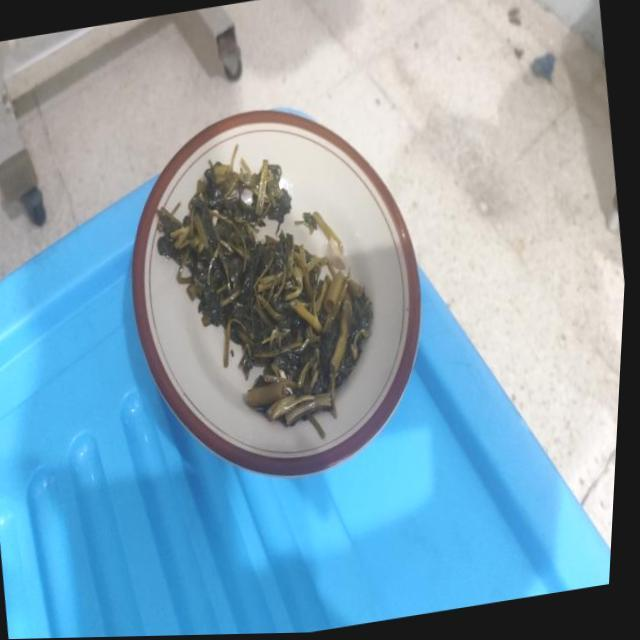tumis_kangkung: (157, 145, 373, 425)
